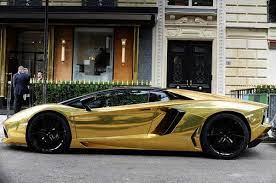Lamborghini: (7, 83, 270, 160)
